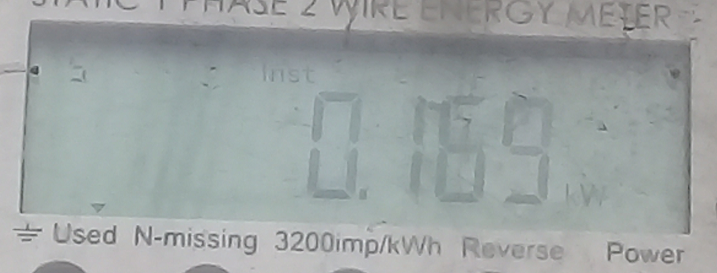digit: (491, 89, 558, 207), (301, 85, 368, 201), (432, 87, 491, 209), (385, 85, 432, 203)
